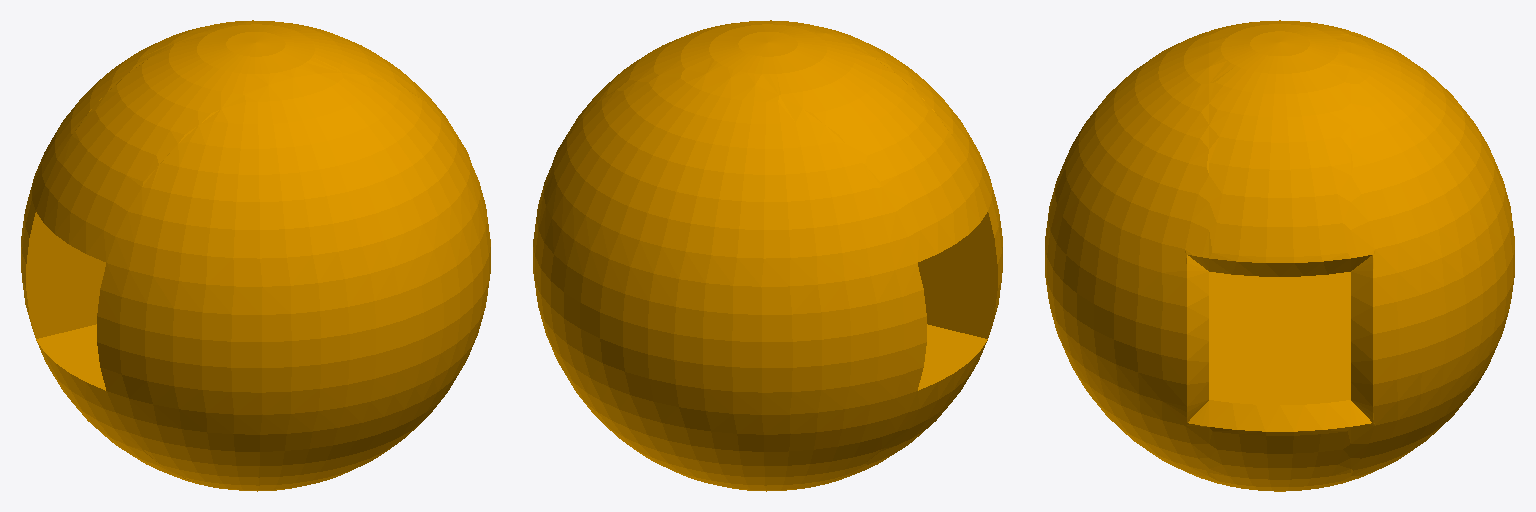
URDF robot description (ballcustom3):
<?xml version="1.0" ?>
<robot name="ballcustom3">

<material name="silver">
  <color rgba="0.700 0.700 0.700 1.000"/>
</material>

<link name="base_link">
  <inertial>
    <origin rpy="0 0 0" xyz="-7.196908638935548e-05 -5.526794002960406e-18 -5.526794002960406e-18"/>
    <mass value="0.07415529686232127"/>
    <inertia ixx="2.913943841054974e-05" ixy="8.226316885660892e-21" ixz="1.6423137885389408e-20" iyy="2.700769798580353e-05" iyz="-3.278728399891406e-20" izz="2.700769798580353e-05"/>
  </inertial>
  <visual>
    <origin rpy="0 0 0" xyz="0 0 0"/>
    <geometry>
      <mesh filename="meshes/kendama_ball.obj" scale="0.001 0.001 0.001"/>
    </geometry>
    <material name="silver"/>
    <material/>
  </visual>
  <collision>
    <origin rpy="0 0 0" xyz="0 0 0"/>
    <geometry>
      <mesh filename="meshes/kendama_ball.obj" scale="0.001 0.001 0.001"/>
    </geometry>
  </collision>
</link>

</robot>

--- Render facts (derived) ---
3 views of the same robot in one strip: view 1: azimuth 30°, elevation 25°; view 2: azimuth 150°, elevation 25°; view 3: azimuth 270°, elevation 25° (orthographic).
Model ballcustom3 with 1 links and 0 joints (none), rooted at base_link, posed all joints at 0.
Links seen in each view (by area): view 1: base_link; view 2: base_link; view 3: base_link.
Boxes of the visible links, x1,y1,x2,y2 form: base_link: [21, 20, 490, 491]; base_link: [533, 20, 1002, 491]; base_link: [1045, 20, 1514, 491].
Size in the robot's own frame: 0.0561 by 0.0599 by 0.06 metres.
1 mesh visuals loaded from 1 distinct referenced files (1 OBJ).